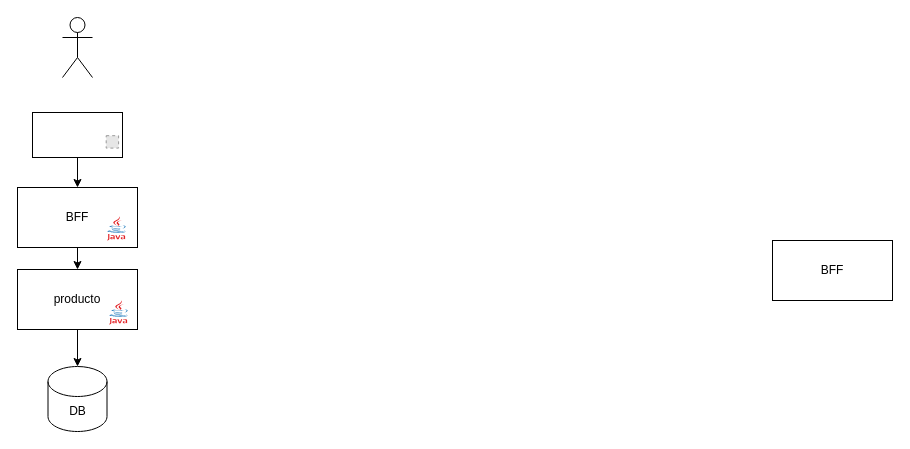
Image size: 910x449. Some labels were removed from this diagram. Grey dashed boxes stand in for pictures. The box of each missing label's shape, as (x1, y1, x2, y2) in pixels:
Actor: (62, 16, 92, 78)
Aplicacion: (32, 112, 122, 158)
